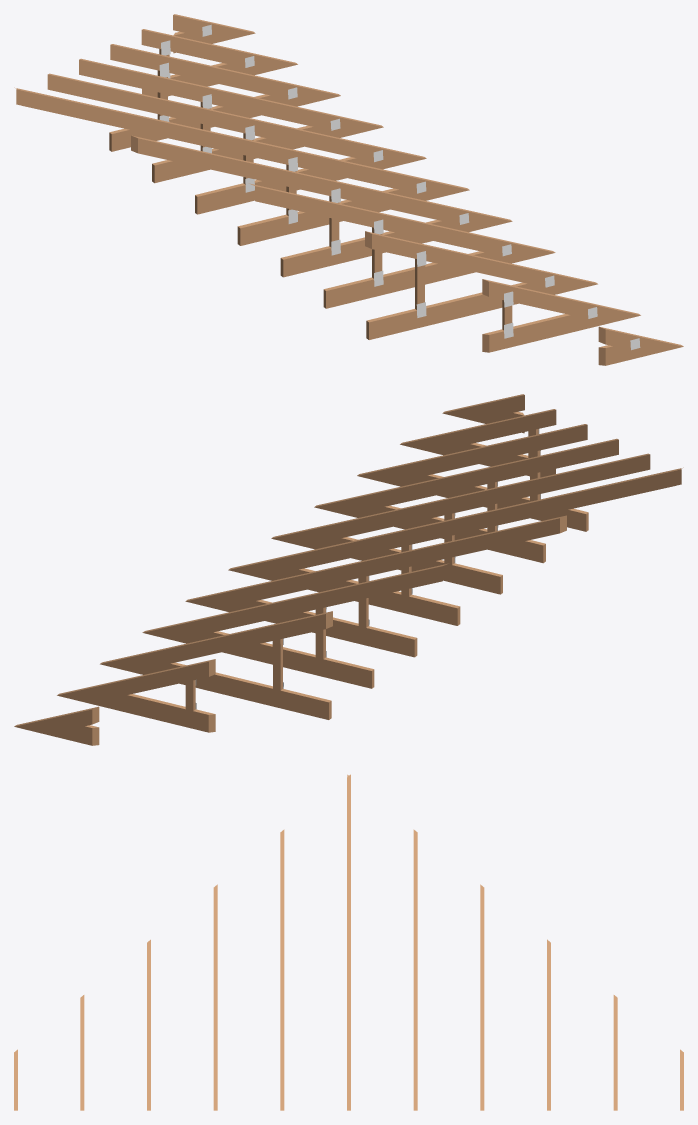
The picture shows the model from 3 angles, top to bottom: view 1: azimuth 30°, elevation 25°; view 2: azimuth 150°, elevation 25°; view 3: azimuth 270°, elevation 25°; orthographic projection. The views are drawn at different scales.
Parts seen in each view (by area): view 1: Hauptbinder schräg.001, Hauptbinder schräg.017, Hauptbinder schräg.016, Hauptbinder schräg.018, Hauptbinder schräg.019, Hauptbinder schräg.015, Hauptbinder schräg.014, Hauptbinder schräg.020, Hauptbinder schräg.013, Hauptbinder schräg.021, Hauptbinder schräg.012; view 2: Hauptbinder schräg.001, Hauptbinder schräg.016, Hauptbinder schräg.017, Hauptbinder schräg.015, Hauptbinder schräg.014, Hauptbinder schräg.018, Hauptbinder schräg.019, Hauptbinder schräg.013, Hauptbinder schräg.020, Hauptbinder schräg.012, Hauptbinder schräg.021; view 3: Hauptbinder schräg.016, Hauptbinder schräg.017, Hauptbinder schräg.001, Hauptbinder schräg.015, Hauptbinder schräg.018, Hauptbinder schräg.014, Hauptbinder schräg.019, Hauptbinder schräg.013, Hauptbinder schräg.020.
Part boxes in pixels (x1,y1,x2,y2): Hauptbinder schräg.001: (14,87,469,245); Hauptbinder schräg.017: (131,135,512,277); Hauptbinder schräg.016: (47,73,426,214); Hauptbinder schräg.018: (249,183,555,308); Hauptbinder schräg.019: (365,231,597,339); Hauptbinder schräg.015: (79,58,383,183); Hauptbinder schräg.014: (109,44,340,151); Hauptbinder schräg.020: (482,279,640,352); Hauptbinder schräg.013: (141,29,297,97); Hauptbinder schräg.021: (598,326,683,365); Hauptbinder schräg.012: (173,14,255,53); Hauptbinder schräg.001: (228,467,683,625); Hauptbinder schräg.016: (185,515,566,657); Hauptbinder schräg.017: (271,453,650,594); Hauptbinder schräg.015: (142,563,448,688); Hauptbinder schräg.014: (100,611,332,719); Hauptbinder schräg.018: (314,438,618,563); Hauptbinder schräg.019: (357,424,588,531); Hauptbinder schräg.013: (57,659,215,732); Hauptbinder schräg.020: (400,409,556,477); Hauptbinder schräg.012: (14,706,99,745); Hauptbinder schräg.021: (442,394,524,433); Hauptbinder schräg.016: (413,829,417,1110); Hauptbinder schräg.017: (280,829,284,1110); Hauptbinder schräg.001: (347,774,350,1110); Hauptbinder schräg.015: (480,884,484,1110); Hauptbinder schräg.018: (213,884,217,1110); Hauptbinder schräg.014: (547,939,550,1110); Hauptbinder schräg.019: (147,939,150,1110); Hauptbinder schräg.013: (613,995,617,1110); Hauptbinder schräg.020: (80,995,84,1110).
Bounding box in the file's own units: 5.68 × 2.53 × 9.35.
